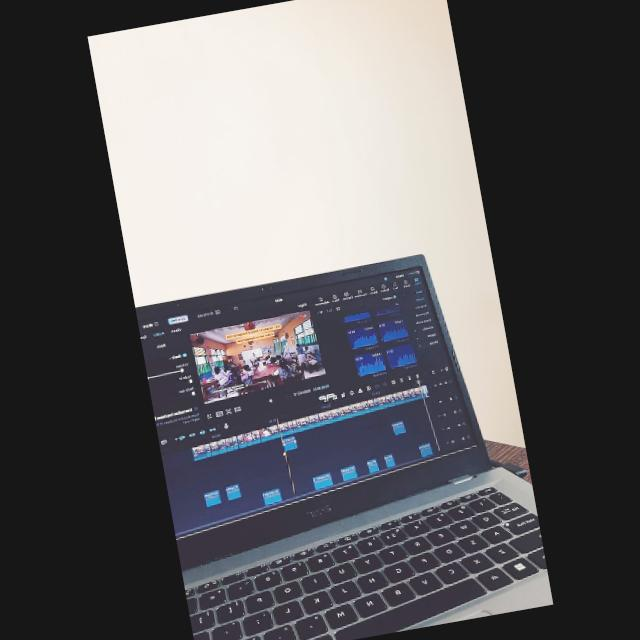laptop: (132, 241, 499, 640)
